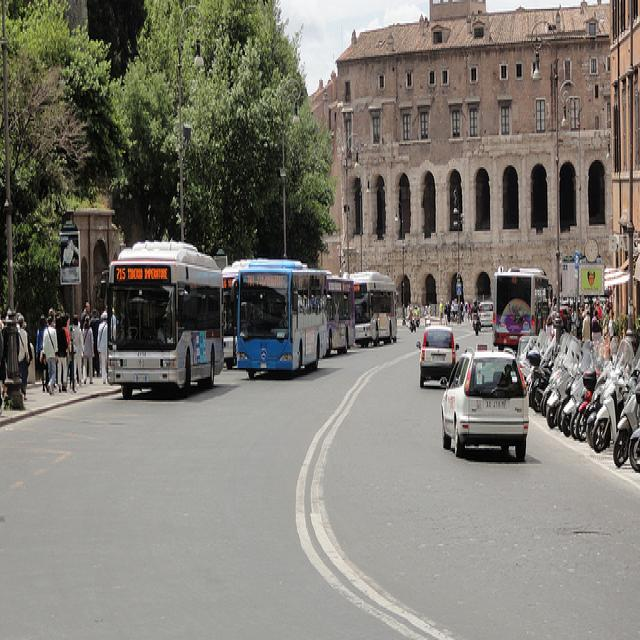motor: (593, 339, 634, 445), (526, 331, 571, 415), (546, 339, 582, 429), (614, 343, 640, 467), (586, 361, 612, 448), (559, 370, 585, 441), (575, 369, 596, 443), (630, 428, 640, 474), (472, 312, 480, 335)
